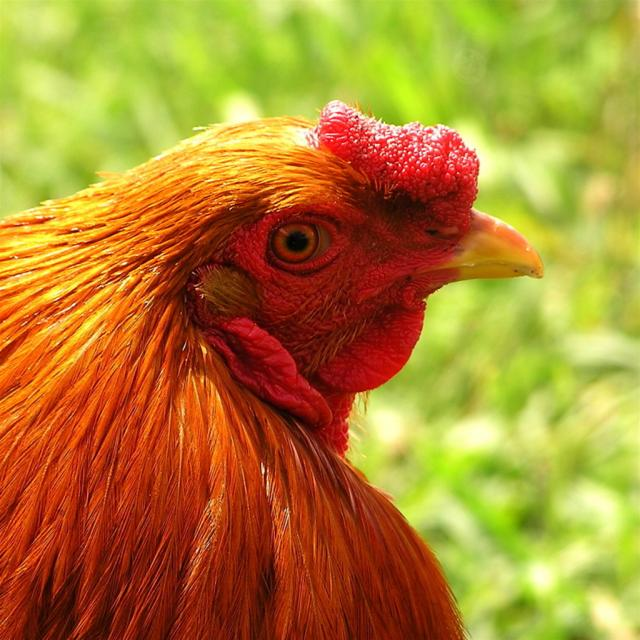Chicken: (0, 85, 543, 639)
